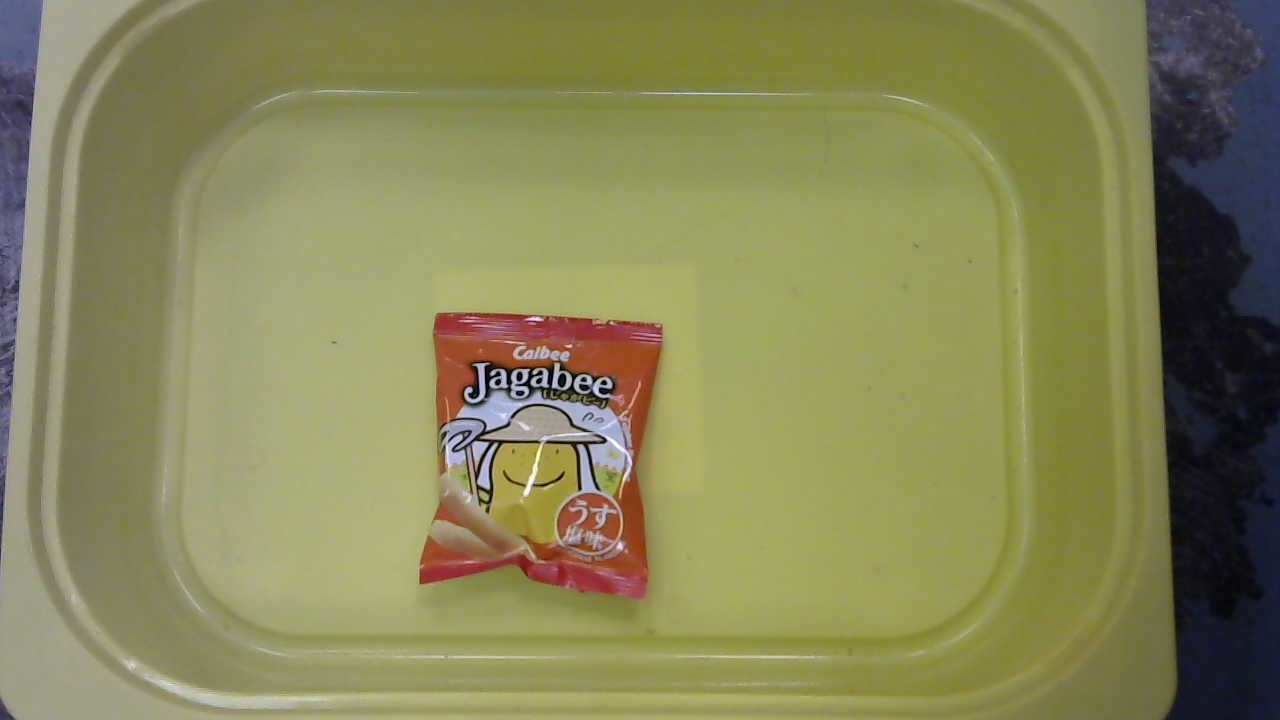JagabeeFarmer: (410, 304, 674, 609)
